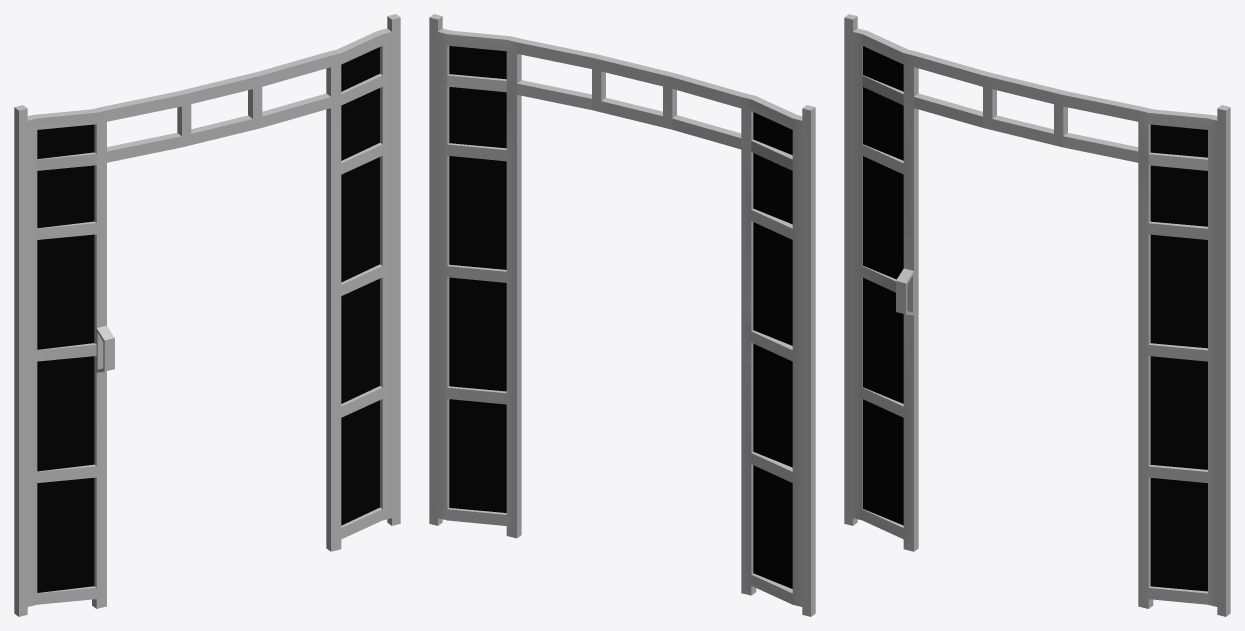
File: elevatorcage.fbx
The picture shows the model from 3 angles, left to right: view 1: azimuth 30°, elevation 25°; view 2: azimuth 150°, elevation 25°; view 3: azimuth 330°, elevation 25°; orthographic projection.
Visible parts, largest first — view 1: Cube.001; view 2: Cube.001; view 3: Cube.001.
Part boxes in pixels (bbox=[...]): Cube.001: bbox=[14, 14, 400, 616]; Cube.001: bbox=[429, 14, 815, 616]; Cube.001: bbox=[844, 14, 1230, 616].
Bounding box in the file's own units: 421 × 535 × 41.45.
